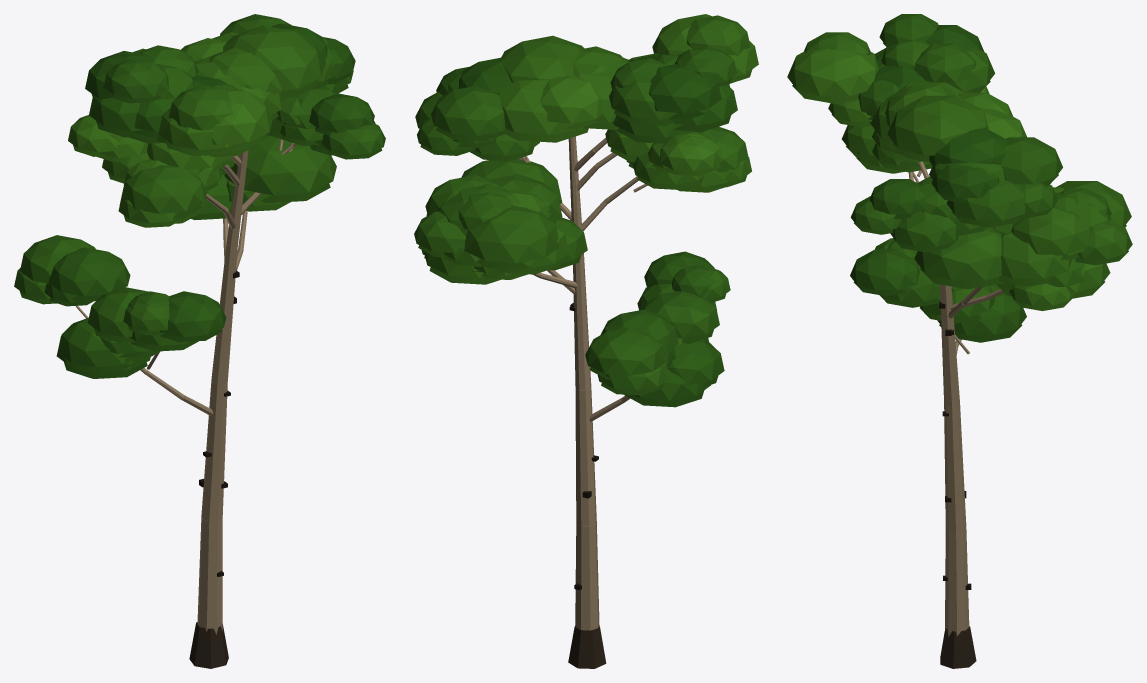
File: tree_birch_2.glb
3 renders of one model, left to right at view 1: azimuth 30°, elevation 25°; view 2: azimuth 150°, elevation 25°; view 3: azimuth 270°, elevation 25°, orthographic. The views are drawn at different scales.
Parts seen in each view (by area): view 1: leaf, wood; view 2: leaf, wood; view 3: leaf, wood.
Part boxes in pixels (box(x1,y1,x2,y2)): leaf: box(14, 14, 385, 378); wood: box(76, 139, 296, 668); leaf: box(414, 14, 758, 407); wood: box(518, 136, 647, 668); leaf: box(787, 14, 1132, 342); wood: box(908, 161, 1003, 668).
Bounding box in the file's own units: 5.01 × 10.4 × 5.43.
